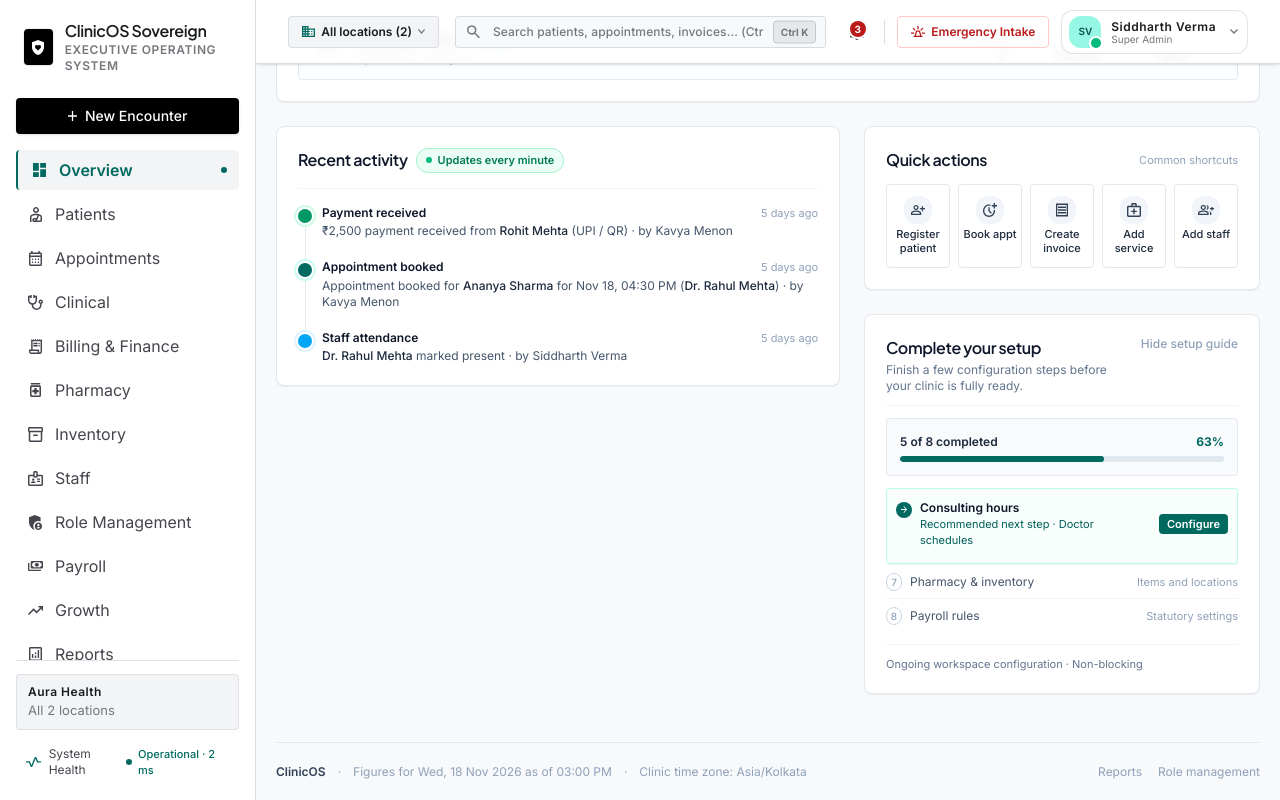
Test case: owner dashboard › remembers that the setup guide was hidden
(page scrolled)
Click the button "Hide setup guide": (1189, 344) [1141,336,1238,352]
(page scrolled)
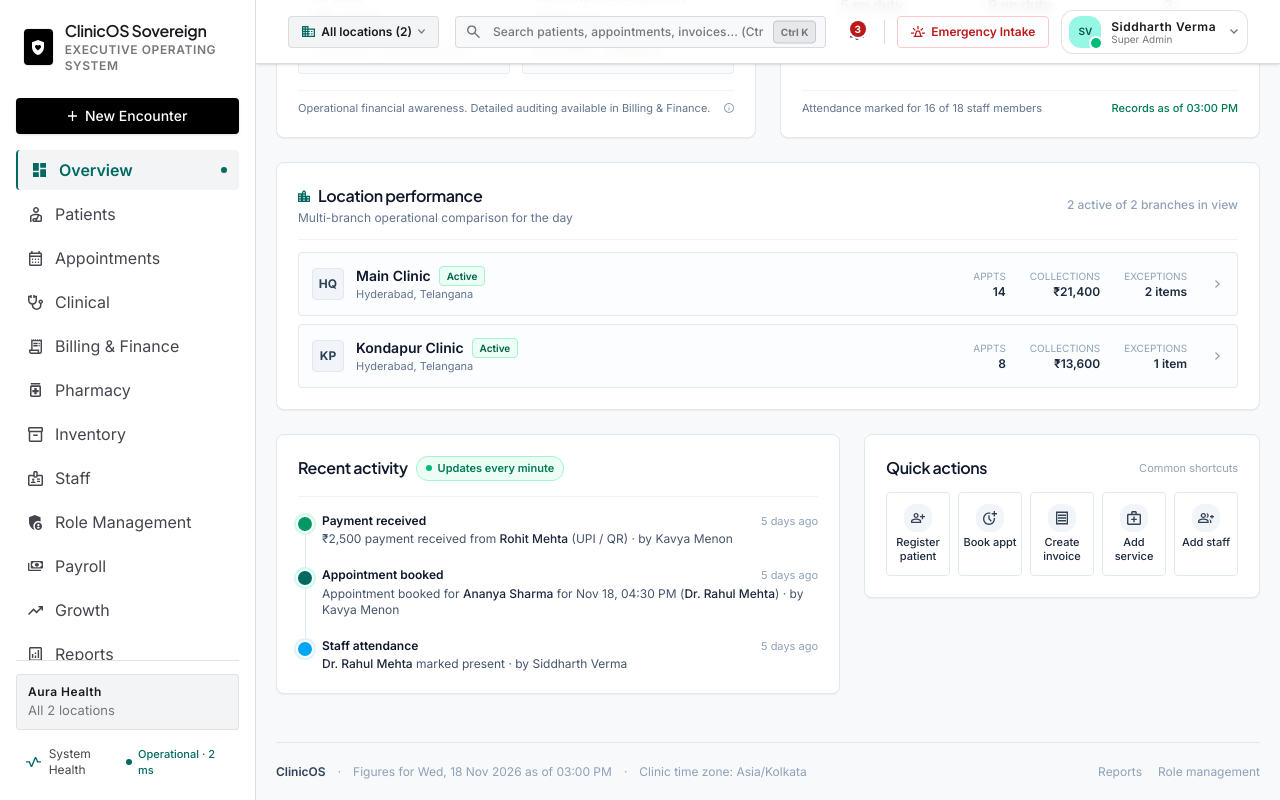
Now the heading "Complete your setup" is gone
